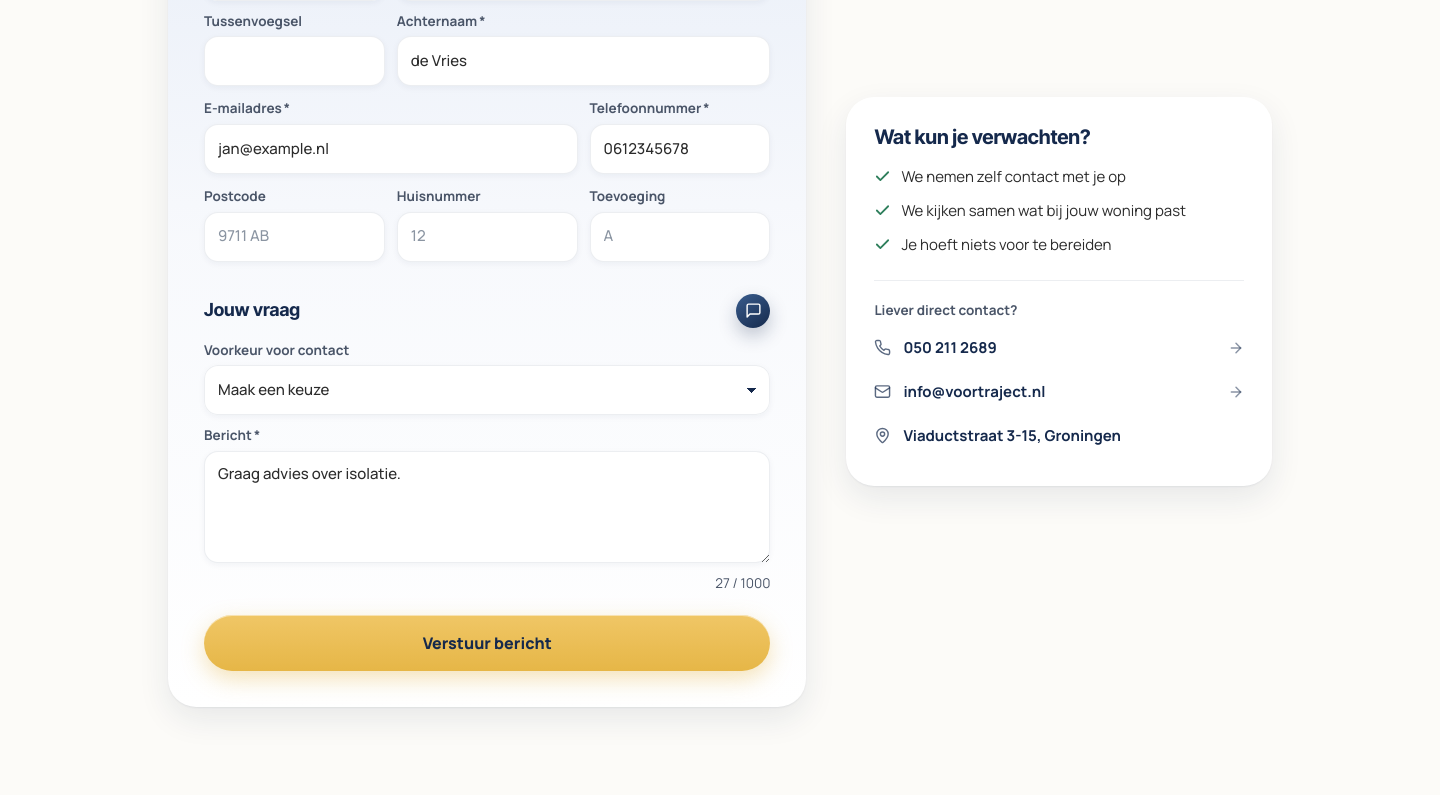
it: contactformulier bewoners › slaat de insert over bij een gevuld honeypot-veld, maar toont wel het bedankscherm
Earlier steps of the test are not shown.
(page scrolled)
Click the button "Verstuur bericht" at {"x": 487, "y": 643}, box left=204, top=615, right=770, bottom=671
(page scrolled)
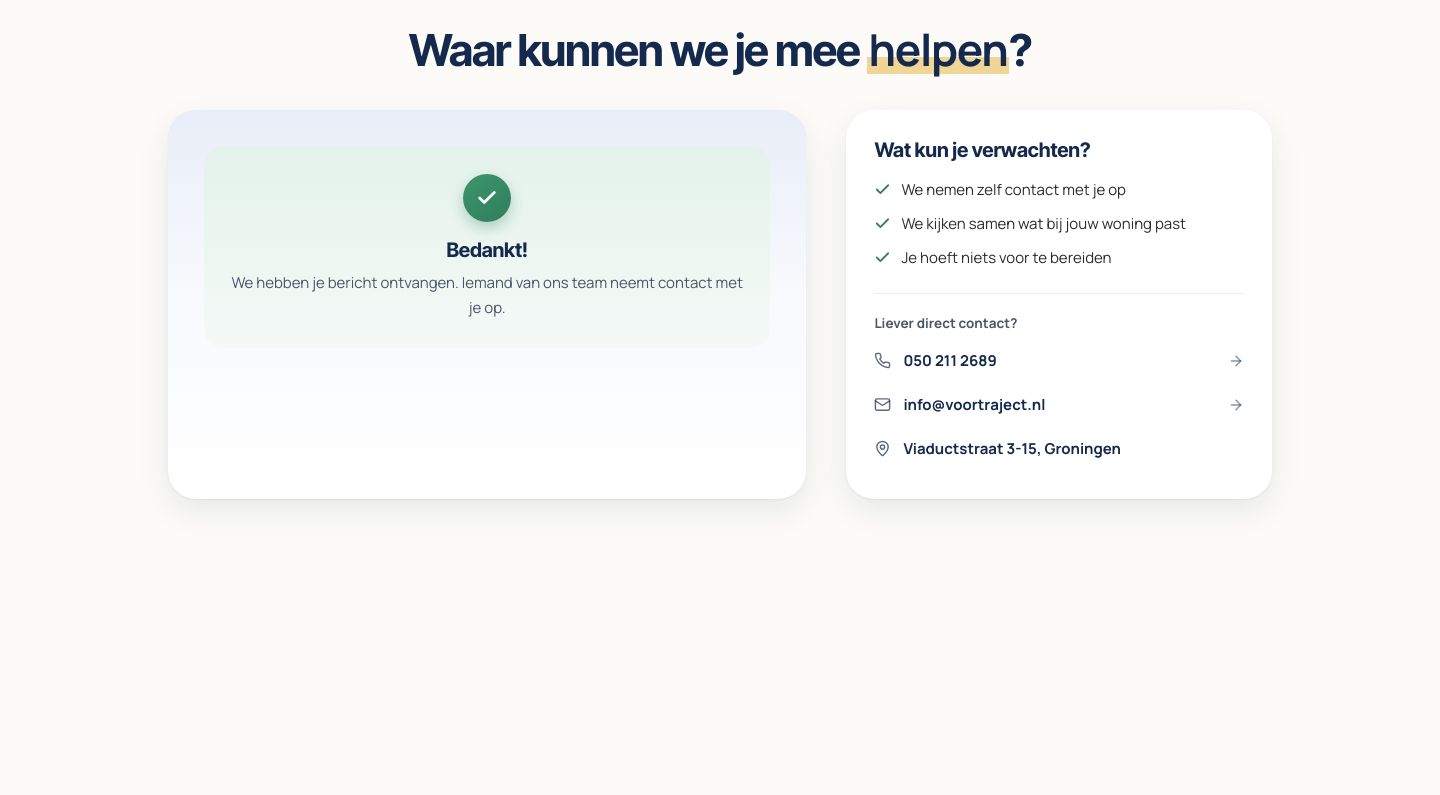
Result: the heading "Bedankt!" is shown at left=446, top=238, right=528, bottom=263
